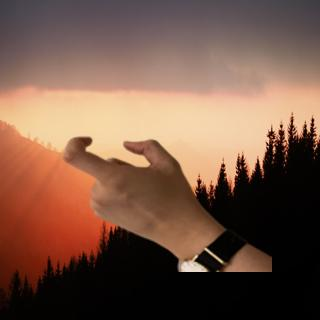HATE: (57, 129, 200, 248)
